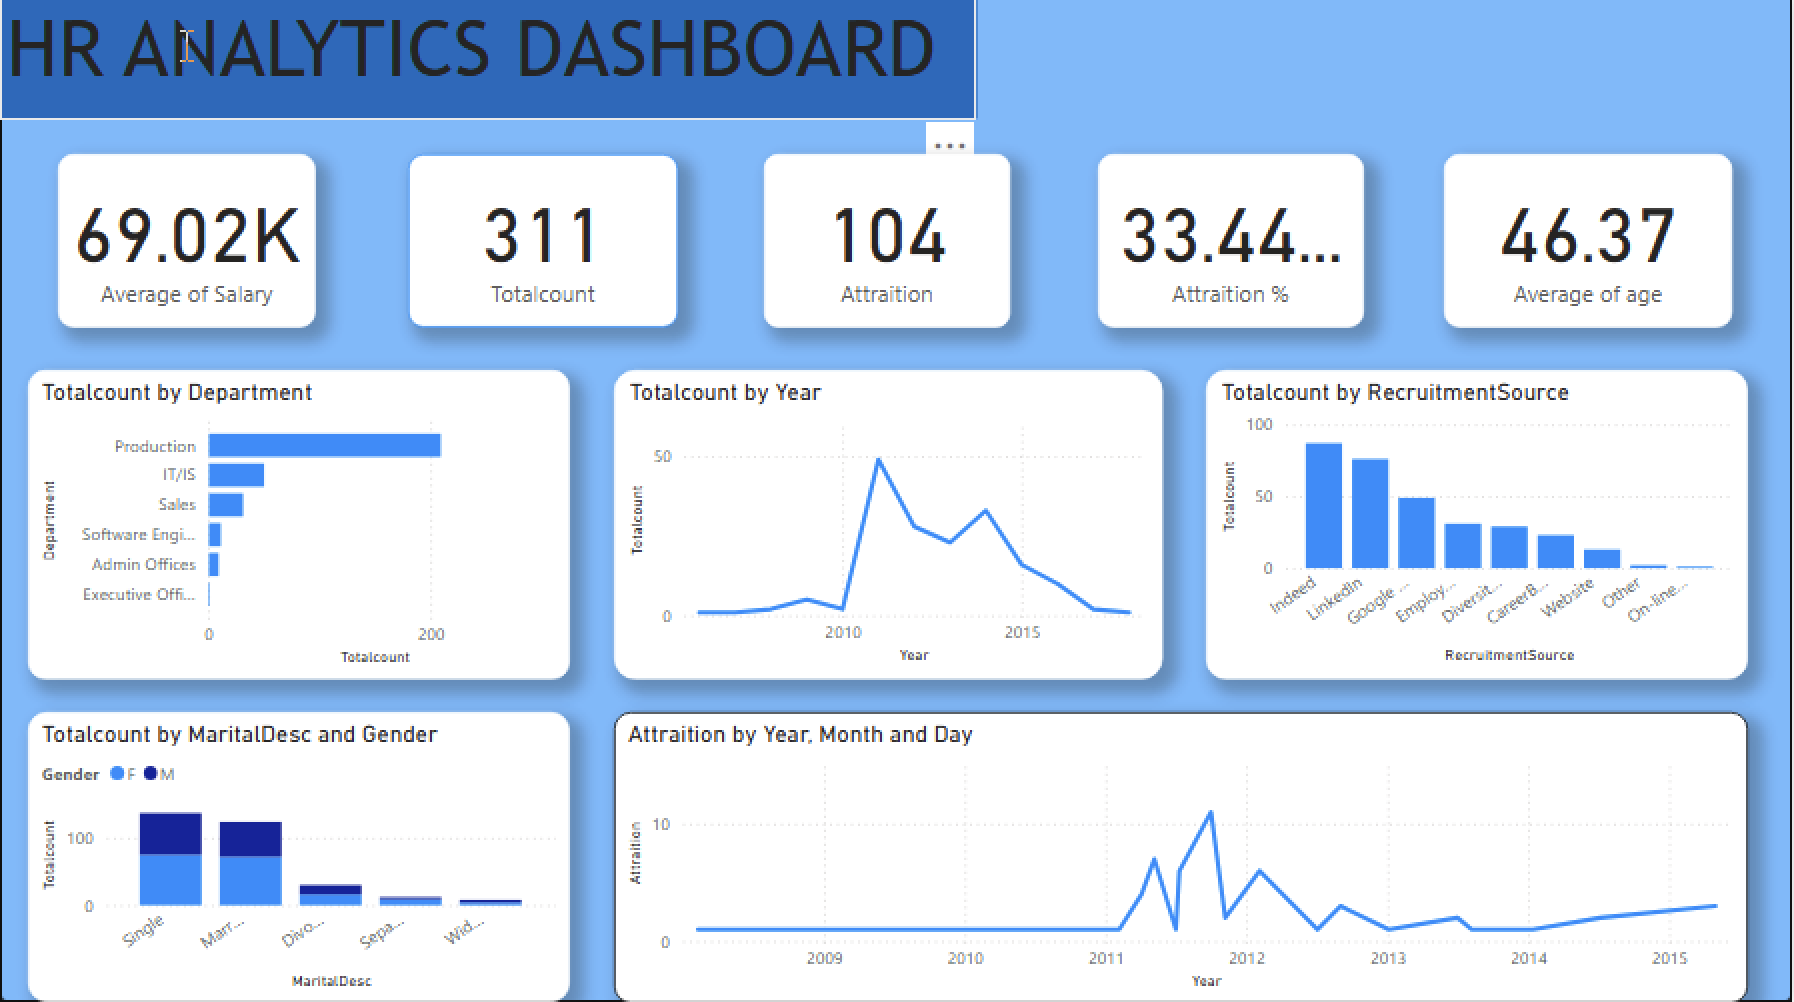

This screenshot's page, from the dashboard's own definition file:
{"tool":"powerbi","page":{"name":"Page 1","canvas":[1280,720],"ordinal":0},"visuals":[{"type":"textbox","box":[0,0,697.6,89.5],"z":0},{"type":"card","fields":{"Values":["Avg(HRDataset_v14.Salary)"]},"box":[40.9,113.7,183.5,124.4],"z":1000},{"type":"card","fields":{"Values":["Measure.Totalcount"]},"box":[291.2,113.7,192.6,124.4],"z":2000},{"type":"card","fields":{"Values":["Measure.Attraition"]},"box":[541.4,113.7,175.9,124.4],"z":2001},{"type":"card","fields":{"Values":["Measure.Attraition %"]},"box":[787.1,113.7,189.6,124.4],"z":2002},{"type":"card","fields":{"Values":["Avg(HRDataset_v14.age)"]},"box":[1031.3,113.7,206.3,124.4],"z":2003},{"type":"clusteredBarChart","fields":{"Y":["Measure.Totalcount"],"Category":["HRDataset_v14.Department"]},"box":[20.3,268,387.1,220.6],"z":2004},{"type":"columnChart","fields":{"Category":["HRDataset_v14.MaritalDesc"],"Y":["Measure.Totalcount"],"Series":["HRDataset_v14.Gender"]},"box":[20.3,512.9,387.1,207.1],"z":2005},{"type":"lineChart","fields":{"Y":["Measure.Totalcount"],"Category":["HRDataset_v14.DateofHire.Variation.Date Hierarchy.Year"]},"box":[438.5,268,392.5,220.6],"z":2006},{"type":"lineChart","fields":{"Y":["Measure.Attraition"],"Category":["HRDataset_v14.DateofHire.Variation.Date Hierarchy.Year","HRDataset_v14.DateofHire.Variation.Date Hierarchy.Month","HRDataset_v14.DateofHire.Variation.Date Hierarchy.Day"]},"box":[438.3,512.6,809.9,207.8],"z":2007},{"type":"columnChart","fields":{"Y":["Measure.Totalcount"],"Category":["HRDataset_v14.RecruitmentSource"]},"box":[860.8,268,387.1,220.6],"z":2008}]}

Visuals, with their boxes in screenshot pixels (x1, y1, x2, y2), scaled from the page's 1280x720 canvas onto the 1794x1002 screenshot:
textbox: select_region(0, 0, 978, 125)
card - Avg(HRDataset_v14.Salary): select_region(57, 158, 315, 331)
card - Measure.Totalcount: select_region(408, 158, 678, 331)
card - Measure.Attraition: select_region(759, 158, 1005, 331)
card - Measure.Attraition %: select_region(1103, 158, 1369, 331)
card - Avg(HRDataset_v14.age): select_region(1445, 158, 1735, 331)
clusteredBarChart - Measure.Totalcount x HRDataset_v14.Department: select_region(28, 373, 571, 680)
columnChart - HRDataset_v14.MaritalDesc x Measure.Totalcount: select_region(28, 714, 571, 1001)
lineChart - Measure.Totalcount x HRDataset_v14.DateofHire.Variation.Date Hierarchy.Year: select_region(615, 373, 1165, 680)
lineChart - Measure.Attraition x HRDataset_v14.DateofHire.Variation.Date Hierarchy.Year: select_region(614, 713, 1749, 1001)
columnChart - Measure.Totalcount x HRDataset_v14.RecruitmentSource: select_region(1206, 373, 1749, 680)
